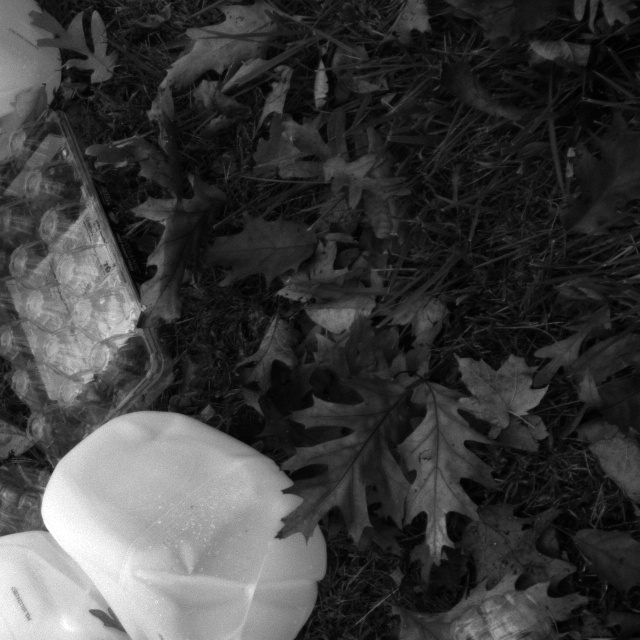can: (36, 409, 330, 640), (0, 524, 130, 640), (0, 0, 64, 179)
container: (0, 91, 169, 484)
